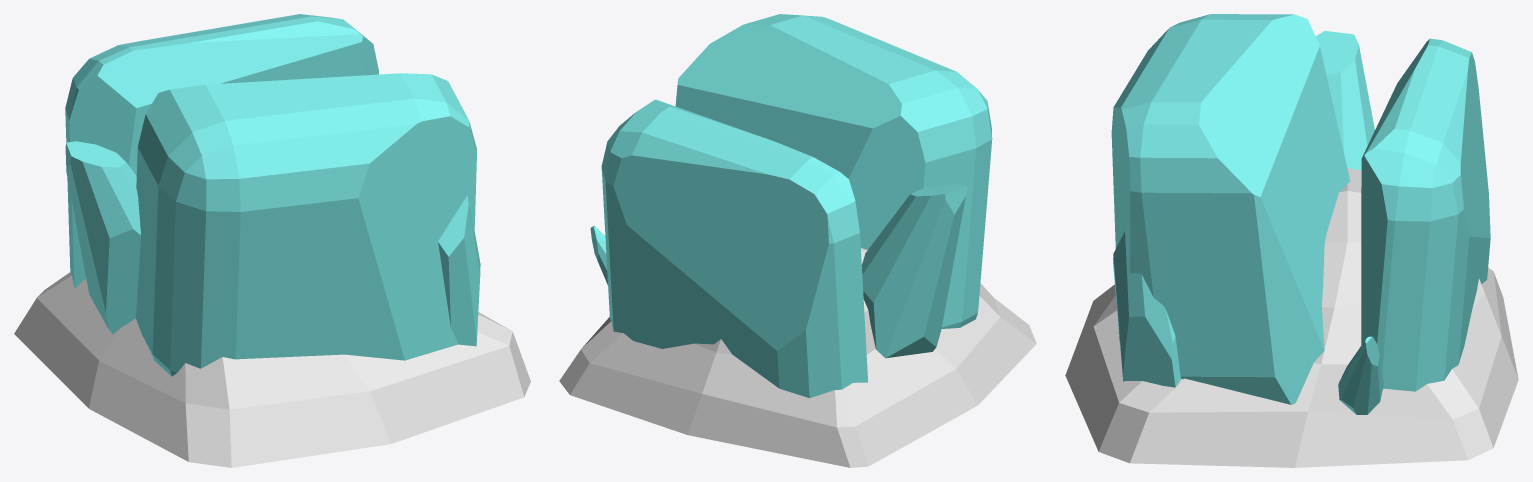
File: IceBox.fbx
3 views of the same model, side by side, from view 1: azimuth 30°, elevation 25°; view 2: azimuth 150°, elevation 25°; view 3: azimuth 270°, elevation 25° (orthographic). The views are drawn at different scales.
Parts seen in each view (by area): view 1: Icebox.002; view 2: Icebox.002; view 3: Icebox.002.
Part boxes in pixels (x1=…): Icebox.002: x1=14, y1=14, x2=530, y2=467; Icebox.002: x1=559, y1=14, x2=1036, y2=467; Icebox.002: x1=1065, y1=14, x2=1518, y2=467.
Bounding box in the file's own units: 264 × 206 × 268.
